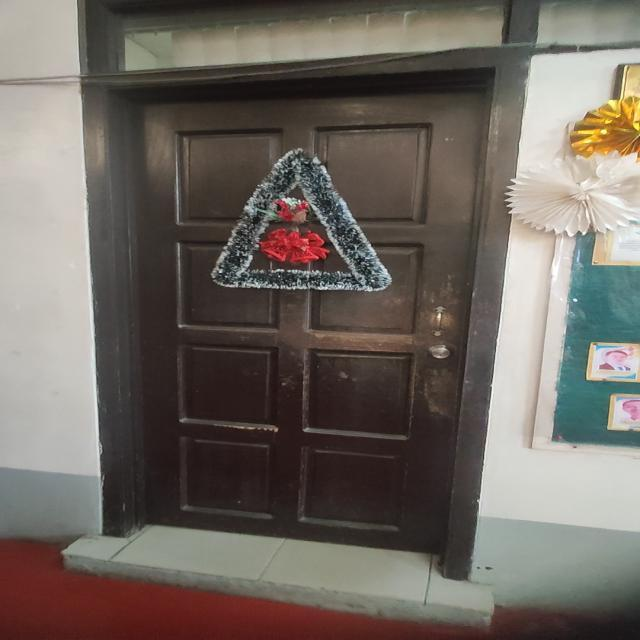door: (101, 50, 487, 554)
